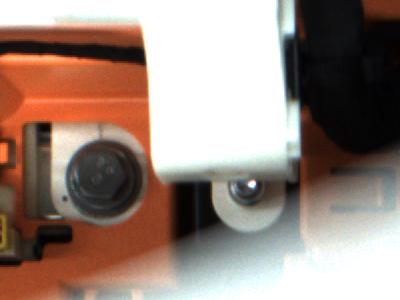nut_b: (58, 140, 144, 214)
